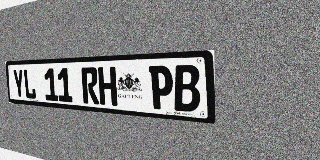1: (56, 68, 72, 102), (43, 68, 58, 101)
B: (173, 65, 200, 113)
H: (98, 67, 117, 106)
L: (23, 69, 36, 99)
P: (149, 65, 173, 110)
R: (81, 67, 99, 104)
Y: (12, 69, 25, 99)
